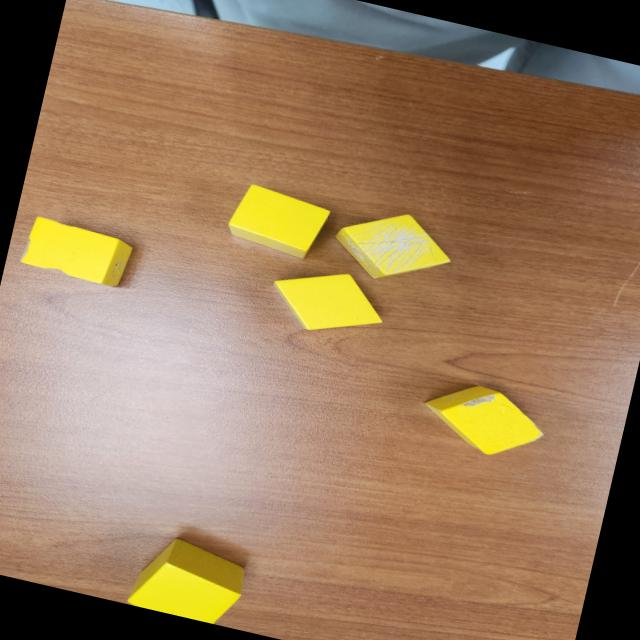broken: (326, 198, 462, 296), (414, 373, 553, 467), (14, 212, 138, 291)
yellow: (122, 529, 254, 629), (259, 256, 392, 348), (222, 180, 332, 264)
